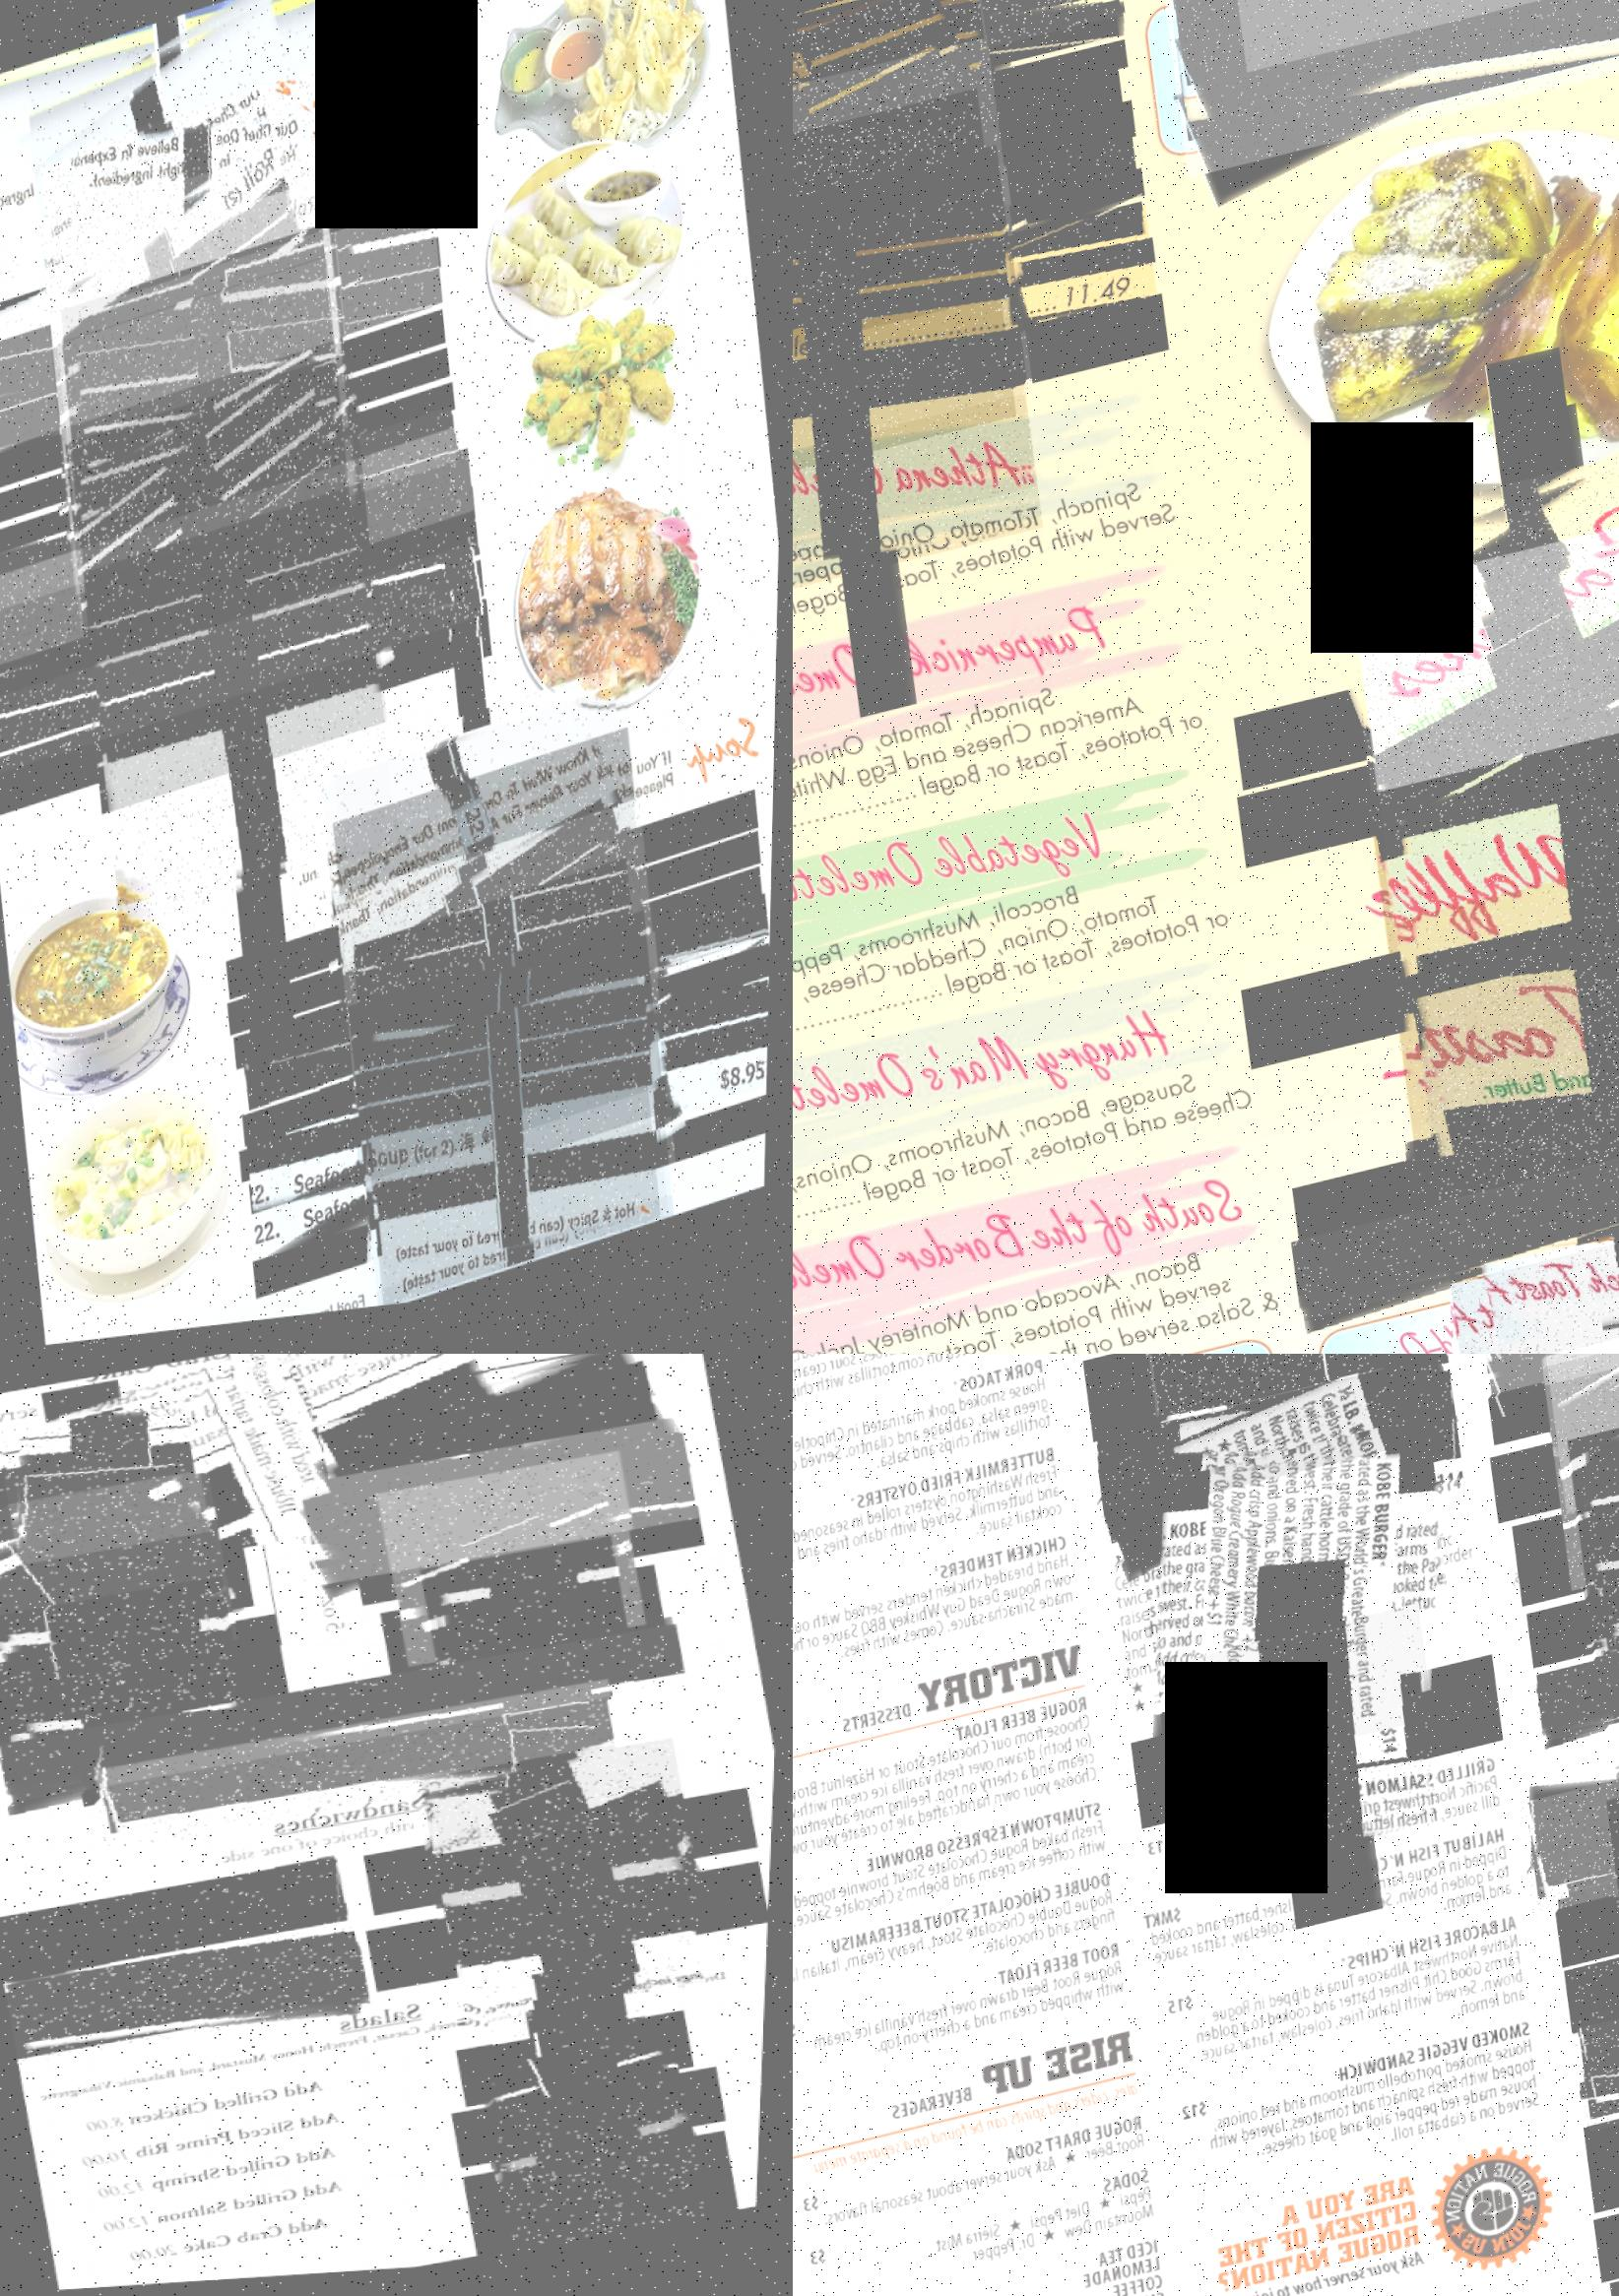Menu-Items: (317, 695, 680, 1198), (333, 809, 692, 1306), (326, 739, 678, 1224), (61, 356, 398, 821), (33, 138, 368, 601), (792, 758, 1256, 1091), (19, 0, 359, 454), (329, 678, 664, 1138), (40, 182, 370, 637), (81, 487, 407, 940), (347, 869, 675, 1319), (33, 74, 359, 522), (792, 970, 1262, 1273), (1335, 447, 1619, 942), (1347, 511, 1619, 1025), (792, 564, 1209, 897), (251, 995, 774, 1259), (53, 229, 364, 662), (58, 264, 370, 695), (347, 923, 685, 1319), (1123, 1433, 1474, 1799), (1363, 715, 1619, 1214), (0, 1632, 690, 1809), (792, 394, 1184, 694), (792, 191, 1058, 618), (0, 434, 478, 671), (0, 131, 443, 385), (792, 42, 1046, 485), (0, 550, 491, 778), (0, 210, 447, 459), (242, 914, 774, 1121), (792, 154, 1051, 576), (47, 1354, 533, 1578), (363, 979, 678, 1317), (792, 0, 1036, 422), (792, 1158, 1291, 1354), (792, 96, 1030, 503), (0, 525, 484, 722), (0, 415, 461, 616), (792, 0, 1034, 384), (1158, 0, 1619, 193), (91, 1692, 624, 1856), (792, 215, 1165, 450), (1416, 925, 1619, 1354), (1088, 1371, 1468, 1580), (1300, 1098, 1619, 1340), (1188, 1616, 1453, 1895), (792, 0, 1015, 331), (1156, 1921, 1542, 2110), (1179, 2026, 1556, 2219), (282, 1424, 703, 1594), (414, 1746, 717, 1976), (792, 0, 1011, 299), (1148, 1830, 1523, 2000), (428, 1825, 717, 2044), (792, 145, 1142, 326), (366, 1457, 654, 1674), (792, 1692, 1113, 1881), (792, 0, 1130, 166), (1137, 1767, 1510, 1909), (0, 1580, 256, 1785), (7, 1926, 380, 2067), (792, 1532, 1092, 1706), (0, 1475, 244, 1687), (312, 1356, 664, 1501), (792, 1944, 1137, 2091), (792, 0, 1015, 224), (792, 1802, 1121, 1949), (792, 1443, 1079, 1611), (792, 1874, 1127, 2018), (792, 1359, 1062, 1524), (0, 1860, 356, 1983), (1134, 1354, 1400, 1517), (484, 2042, 708, 2212), (414, 1543, 636, 1711), (792, 0, 1114, 116), (0, 1401, 210, 1571), (494, 2110, 720, 2257), (491, 1998, 673, 2135), (792, 1354, 1053, 1438), (1118, 1354, 1391, 1433), (1537, 1354, 1619, 1611), (1519, 1732, 1619, 1937), (1561, 1406, 1619, 1683), (1531, 1613, 1619, 1767)
